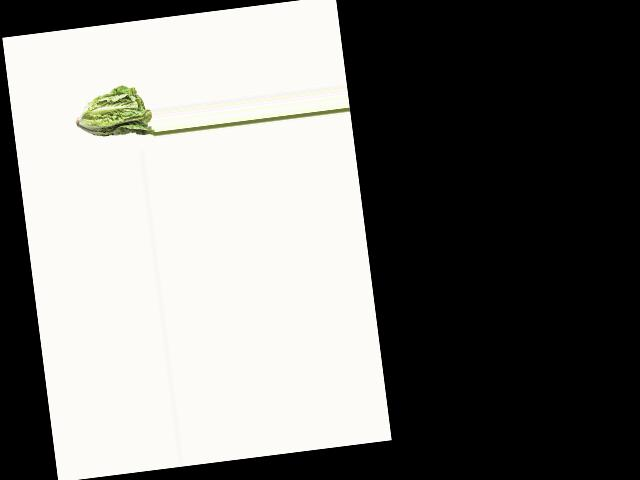lettuce: (73, 79, 154, 143)
